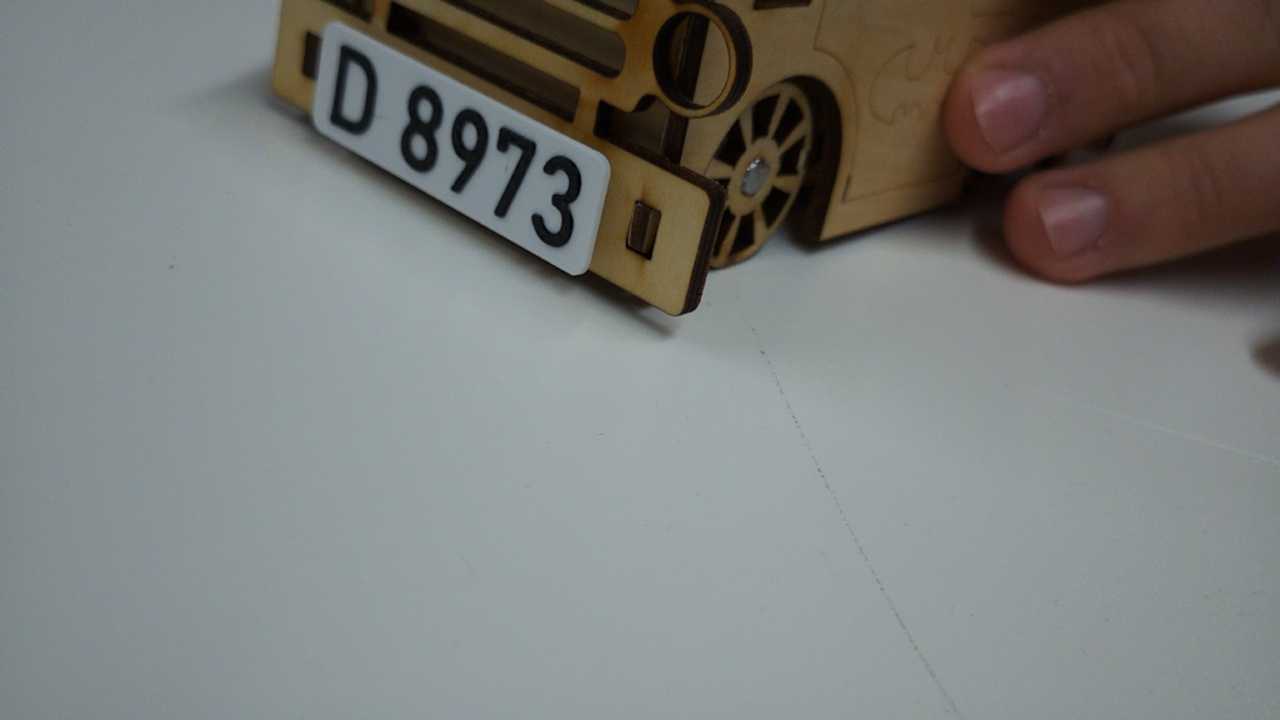license_plate: (310, 18, 615, 278)
